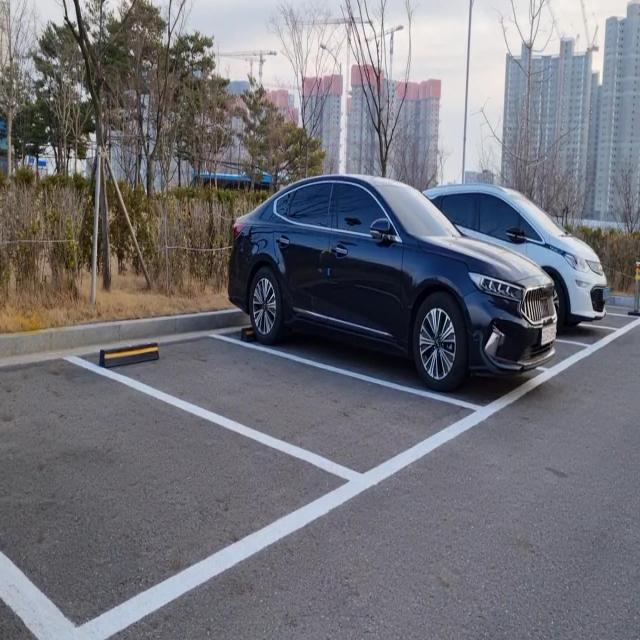empty: (0, 335, 365, 640), (77, 324, 485, 487)
occupied: (219, 184, 557, 434), (543, 226, 627, 364)
